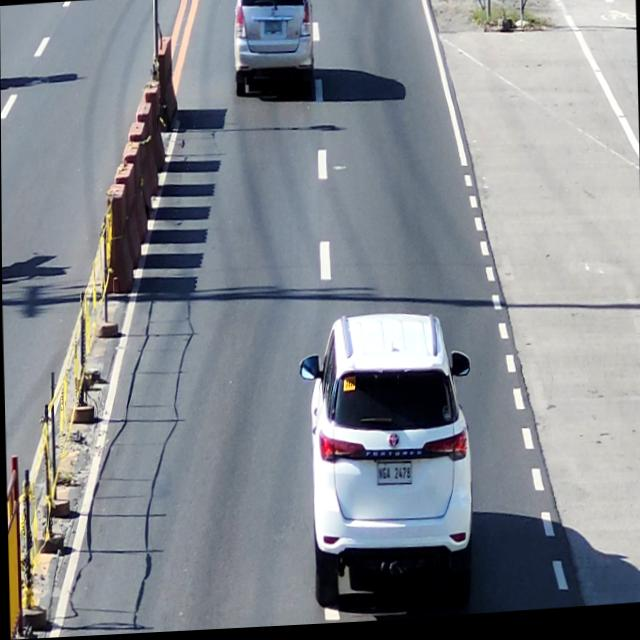Car: (308, 315, 477, 615), (232, 0, 315, 99)
License-Plate: (376, 463, 412, 491), (262, 21, 283, 39)
